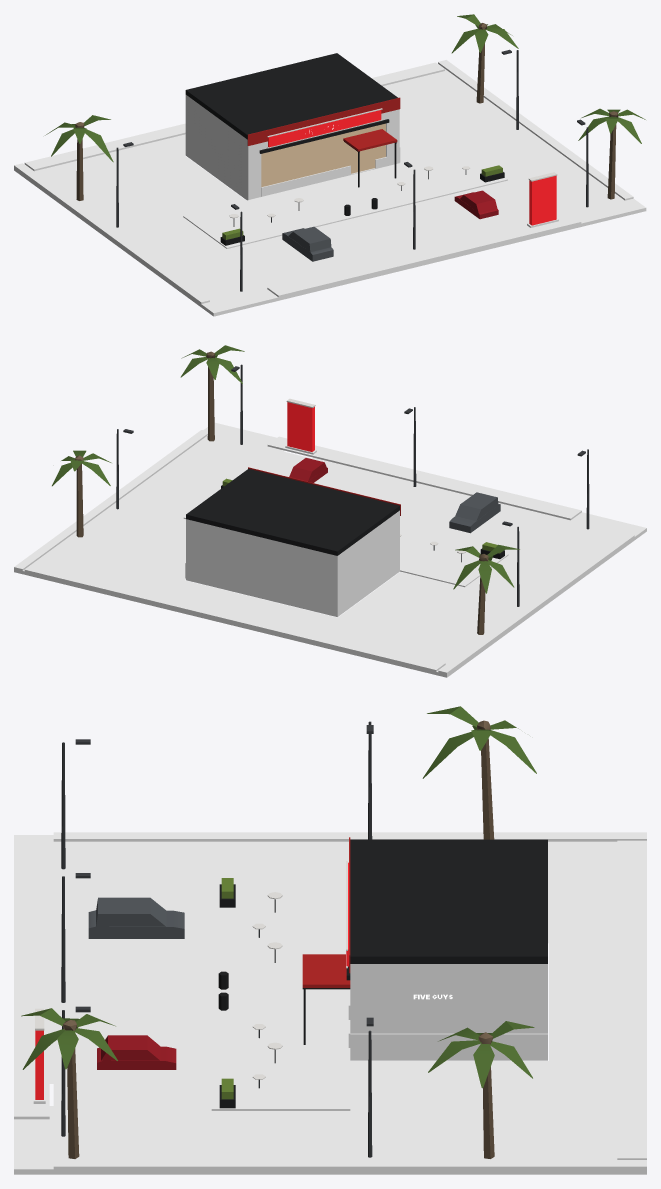
File: five_guys_lod2.glb
3 views of the same model, one above another, from view 1: azimuth 30°, elevation 25°; view 2: azimuth 150°, elevation 25°; view 3: azimuth 270°, elevation 25° (orthographic). The views are drawn at different scales.
Visible parts, largest first — view 1: FG_LOD2_Ground, FG_LOD2_Building, FG_LOD2_Glass, FG_LOD2_Landscape, FG_LOD2_Vehicles, FG_LOD2_Totem, FG_LOD2_LampPosts, FG_LOD2_Furniture, FG_LOD2_Canopy; view 2: FG_LOD2_Ground, FG_LOD2_Building, FG_LOD2_Landscape, FG_LOD2_Vehicles, FG_LOD2_Totem, FG_LOD2_LampPosts; view 3: FG_LOD2_Ground, FG_LOD2_Building, FG_LOD2_Landscape, FG_LOD2_Vehicles, FG_LOD2_LampPosts, FG_LOD2_Furniture, FG_LOD2_Canopy, FG_LOD2_Totem.
Part boxes in pixels (x1=…): FG_LOD2_Ground: x1=14, y1=60, x2=646, y2=316; FG_LOD2_Building: x1=185, y1=53, x2=400, y2=200; FG_LOD2_Glass: x1=261, y1=123, x2=385, y2=187; FG_LOD2_Landscape: x1=45, y1=14, x2=645, y2=200; FG_LOD2_Vehicles: x1=282, y1=190, x2=498, y2=261; FG_LOD2_Totem: x1=527, y1=172, x2=558, y2=227; FG_LOD2_LampPosts: x1=116, y1=49, x2=588, y2=291; FG_LOD2_Furniture: x1=220, y1=165, x2=504, y2=245; FG_LOD2_Canopy: x1=343, y1=129, x2=397, y2=187; FG_LOD2_Ground: x1=14, y1=422, x2=646, y2=677; FG_LOD2_Building: x1=185, y1=467, x2=400, y2=616; FG_LOD2_Landscape: x1=52, y1=345, x2=519, y2=634; FG_LOD2_Vehicles: x1=289, y1=458, x2=500, y2=533; FG_LOD2_Totem: x1=285, y1=398, x2=316, y2=454; FG_LOD2_LampPosts: x1=116, y1=364, x2=589, y2=606; FG_LOD2_Ground: x1=14, y1=832, x2=646, y2=1174; FG_LOD2_Building: x1=346, y1=837, x2=547, y2=1060; FG_LOD2_Landscape: x1=21, y1=706, x2=536, y2=1158; FG_LOD2_Vehicles: x1=88, y1=897, x2=184, y2=1069; FG_LOD2_LampPosts: x1=61, y1=721, x2=373, y2=1157; FG_LOD2_Furniture: x1=218, y1=878, x2=282, y2=1108; FG_LOD2_Canopy: x1=302, y1=954, x2=350, y2=1044; FG_LOD2_Totem: x1=33, y1=1008, x2=45, y2=1103.
Size of what is drawn, in the model's own units: 42.96 by 8.05 by 32.
